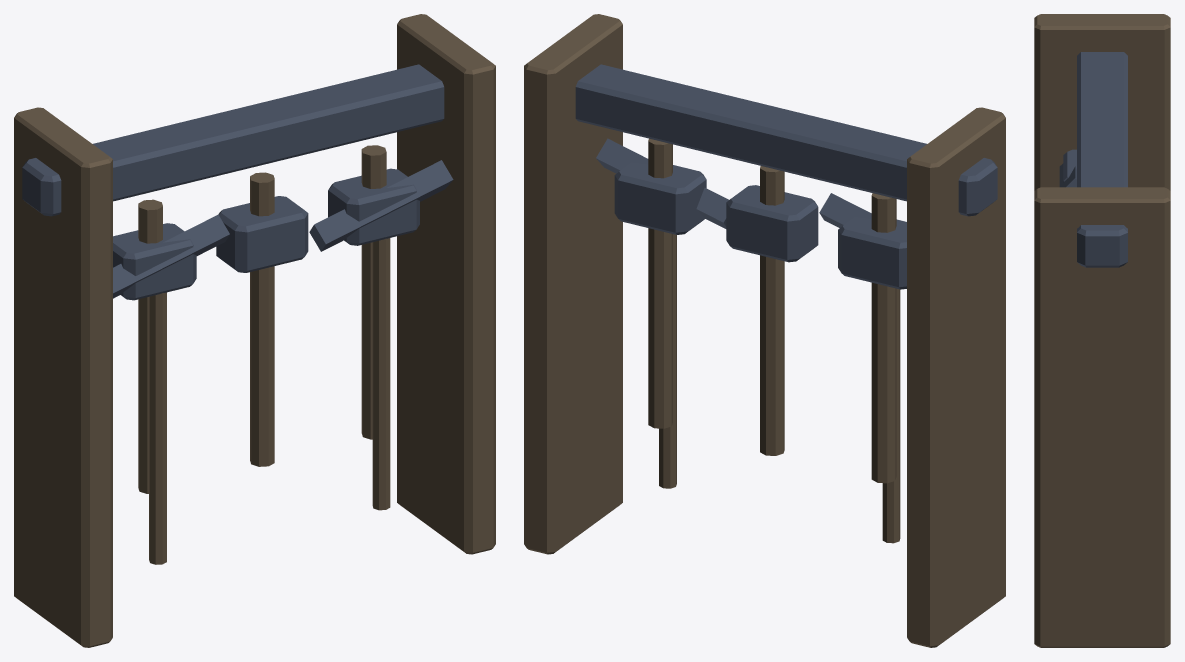
Rendered from pickaxe-rack.glb.
3 renders of one model, left to right at view 1: azimuth 30°, elevation 25°; view 2: azimuth 150°, elevation 25°; view 3: azimuth 270°, elevation 25°, orthographic. The views are drawn at different scales.
Visible parts, largest first — view 1: pickaxe-rack__body; view 2: pickaxe-rack__body; view 3: pickaxe-rack__body.
Part boxes in pixels (<box>): pickaxe-rack__body: <box>14,14,495,647</box>; pickaxe-rack__body: <box>524,14,1005,647</box>; pickaxe-rack__body: <box>1034,14,1170,647</box>.
Bounding box in the file's own units: 1.4 × 1.45 × 0.4.
